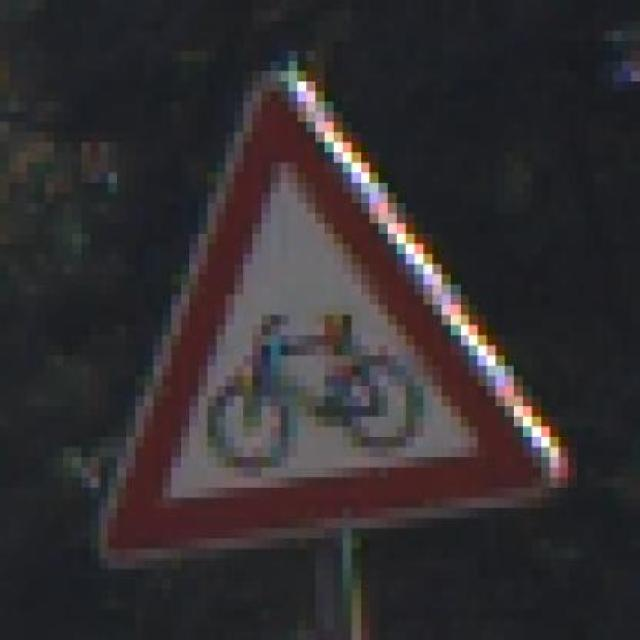CYCLE ROUTE AHEAD WARNING: (54, 61, 595, 568)
